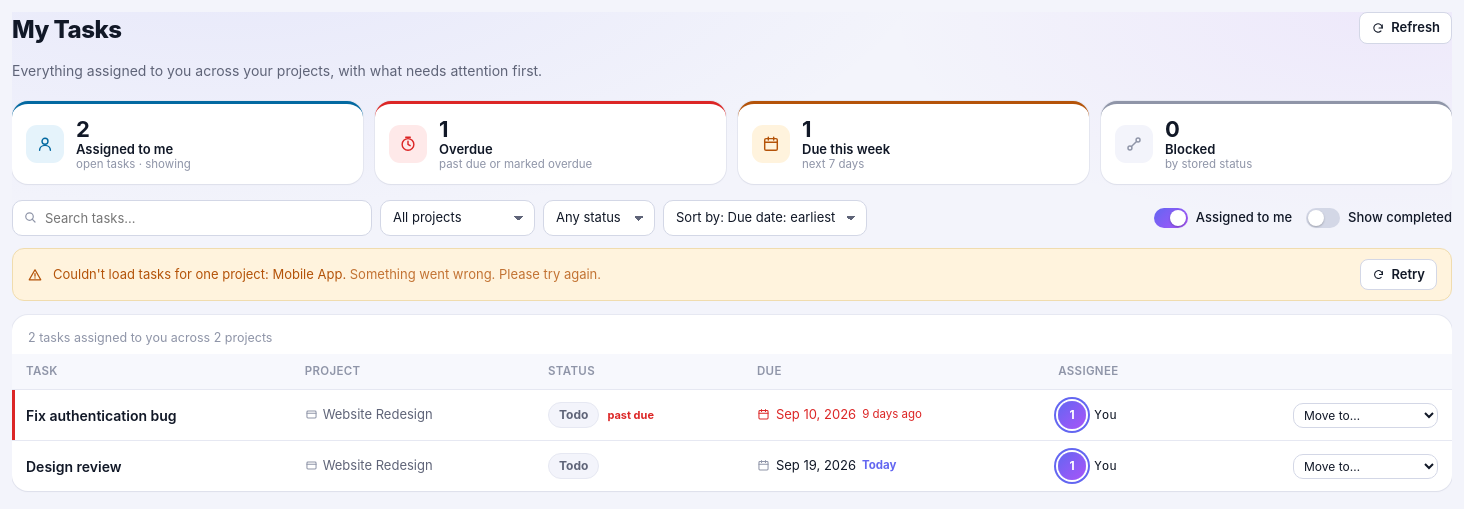
Scenario: MyTasksPage › keeps the page useful when one project's tasks fail: shows the rest plus a notice with Retry
Check: the link "Fix authentication bug" is shown, box 26,407 -> 177,424
Check: the text "Plan sprint" is not shown
Click the button "Retry".
click(1399, 275)  # box 1360,259 -> 1437,290
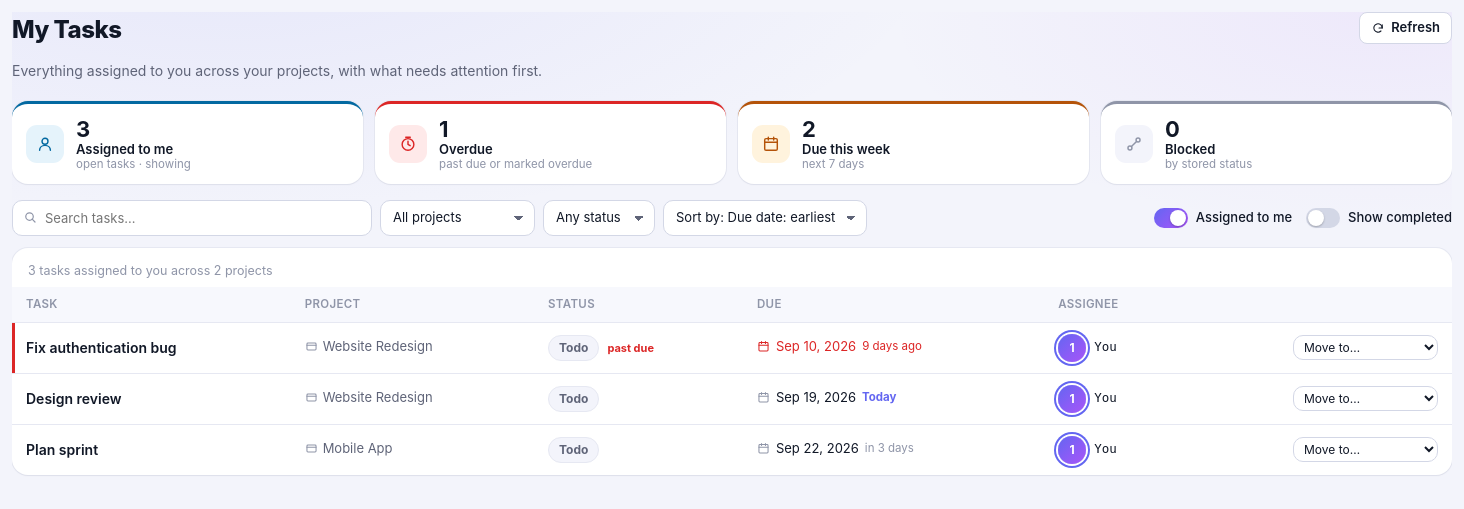
Check: the link "Plan sprint" is shown, box 26,441 -> 98,458
Check: the text "Couldn't load tasks" is gone
